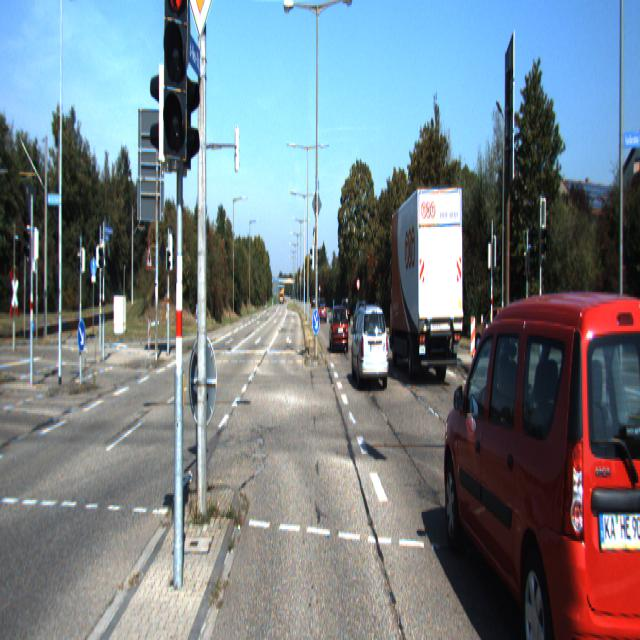Car: (442, 276, 640, 638), (386, 180, 464, 388), (351, 303, 390, 395), (474, 303, 518, 357), (330, 305, 349, 354)
